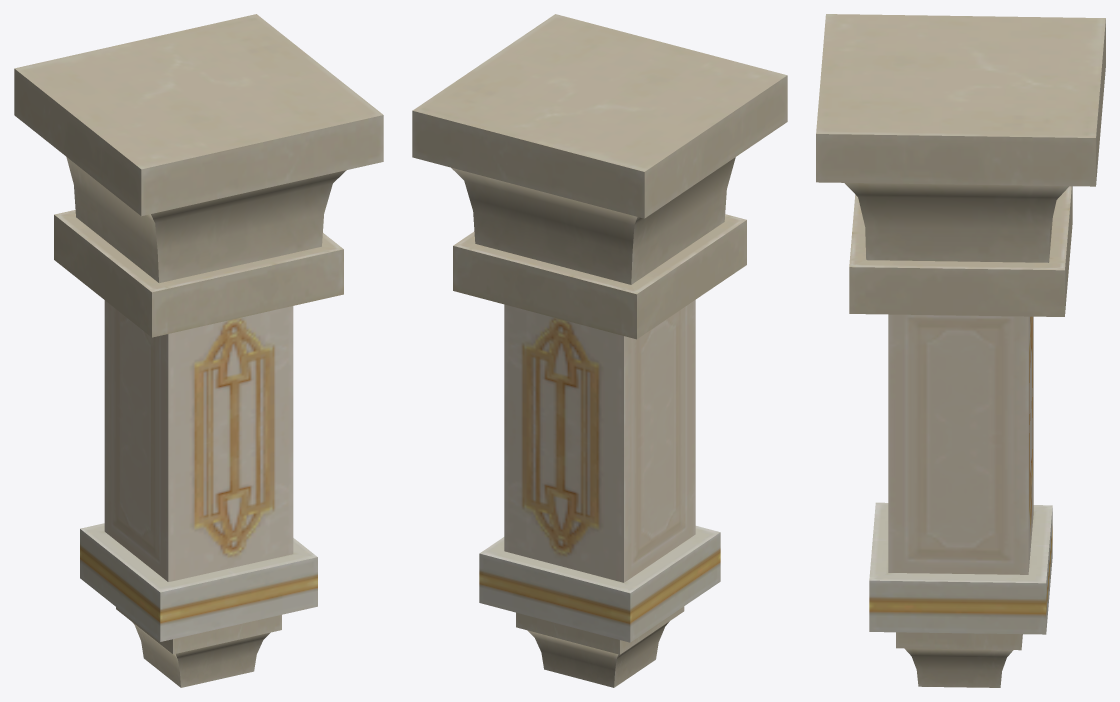
Rendered from Homeworld_Interior_Fd_Room_Pillar_03_Vo.fbx.
3 renders of one model, left to right at view 1: azimuth 30°, elevation 25°; view 2: azimuth 150°, elevation 25°; view 3: azimuth 270°, elevation 25°, orthographic. The views are drawn at different scales.
Parts seen in each view (by area): view 1: Homeworld_Interior_Fd_Room_Pillar_03_Vo; view 2: Homeworld_Interior_Fd_Room_Pillar_03_Vo; view 3: Homeworld_Interior_Fd_Room_Pillar_03_Vo.
Part boxes in pixels (box(x1,y1,x2,y2)): Homeworld_Interior_Fd_Room_Pillar_03_Vo: box(14, 14, 383, 687); Homeworld_Interior_Fd_Room_Pillar_03_Vo: box(412, 14, 787, 687); Homeworld_Interior_Fd_Room_Pillar_03_Vo: box(816, 14, 1105, 687).
Size of the model in its own units: 0.8813 by 1.96 by 0.87.
